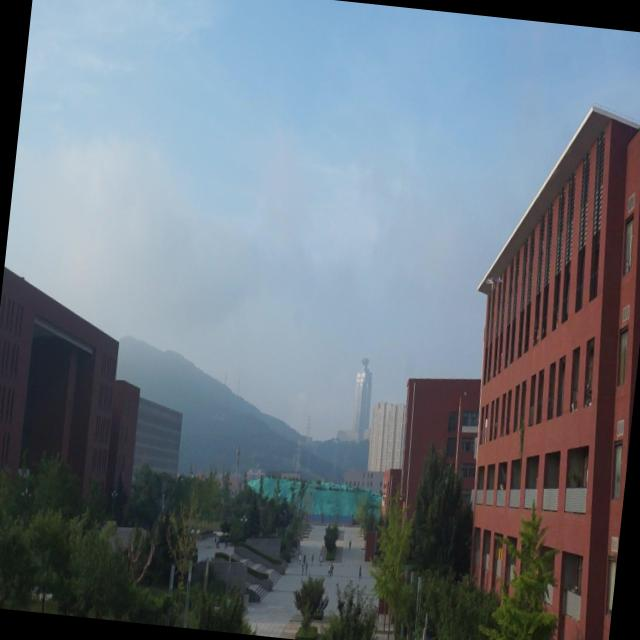drone: (482, 268, 502, 294)
